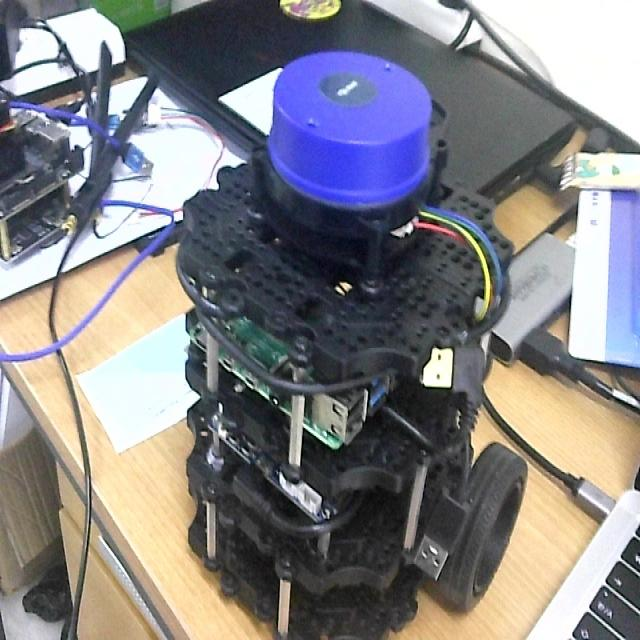turtle: (176, 48, 530, 640)
